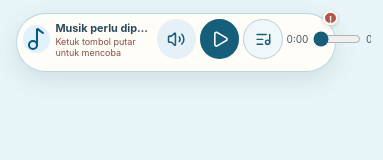
Test: AudioPlayer › showsRetryAfterPlaybackFailure
This screenshot has width=383, height=160.
Expected: the message named "nada musiknya tersendat" is shown, [324,11,338,25]
Click the button named "Coba putar musik lagi" at coordinates (220, 39), box [200,19,239,59]
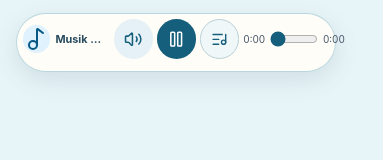
Expected: the button named "Jeda musik" is shown, [157,19,196,59]
